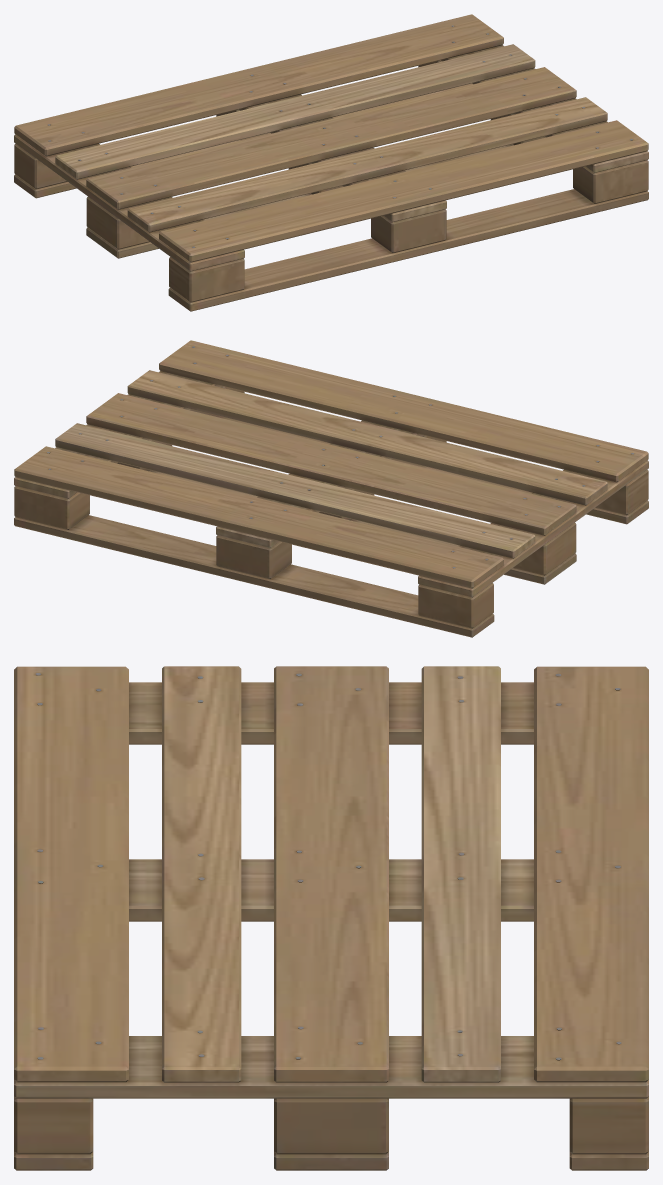
Rendered from g3d_wooden_pallet.glb.
The picture shows the model from 3 angles, top to bottom: view 1: azimuth 30°, elevation 25°; view 2: azimuth 150°, elevation 25°; view 3: azimuth 270°, elevation 25°; orthographic projection. The views are drawn at different scales.
Parts seen in each view (by area): view 1: wooden-pallet_body; view 2: wooden-pallet_body; view 3: wooden-pallet_body.
Boxes of the visible parts, x1=… form: wooden-pallet_body: x1=14, y1=14, x2=648, y2=311; wooden-pallet_body: x1=14, y1=340, x2=648, y2=637; wooden-pallet_body: x1=14, y1=666, x2=648, y2=1170.
Bounding box in the file's own units: 1.2 × 0.1444 × 0.8.
Materials: 1 (1 with a texture image).
